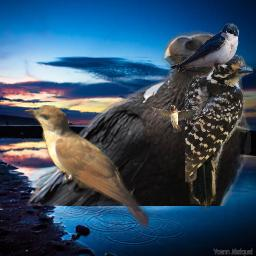Crow: (24, 29, 251, 206)
Cuckoo: (24, 105, 149, 228)
Swallow: (169, 23, 239, 72), (150, 105, 200, 133)
Woodpecker: (185, 52, 253, 211)
